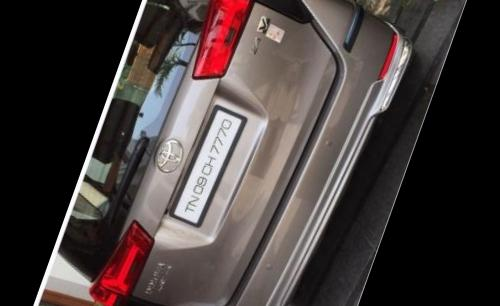plate: (166, 88, 267, 241)
